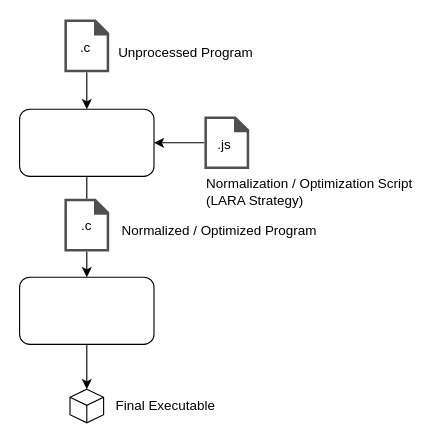
The diagram is 448 pixels wide and 442 high, and some of its shapes have lost their labels. Each missing label, with the centre of its shape:
"Clava Source-to-Source Compiler" goes at point (86, 142).
"Compiler Toolchain (e.g. Clang)" goes at point (86, 310).
